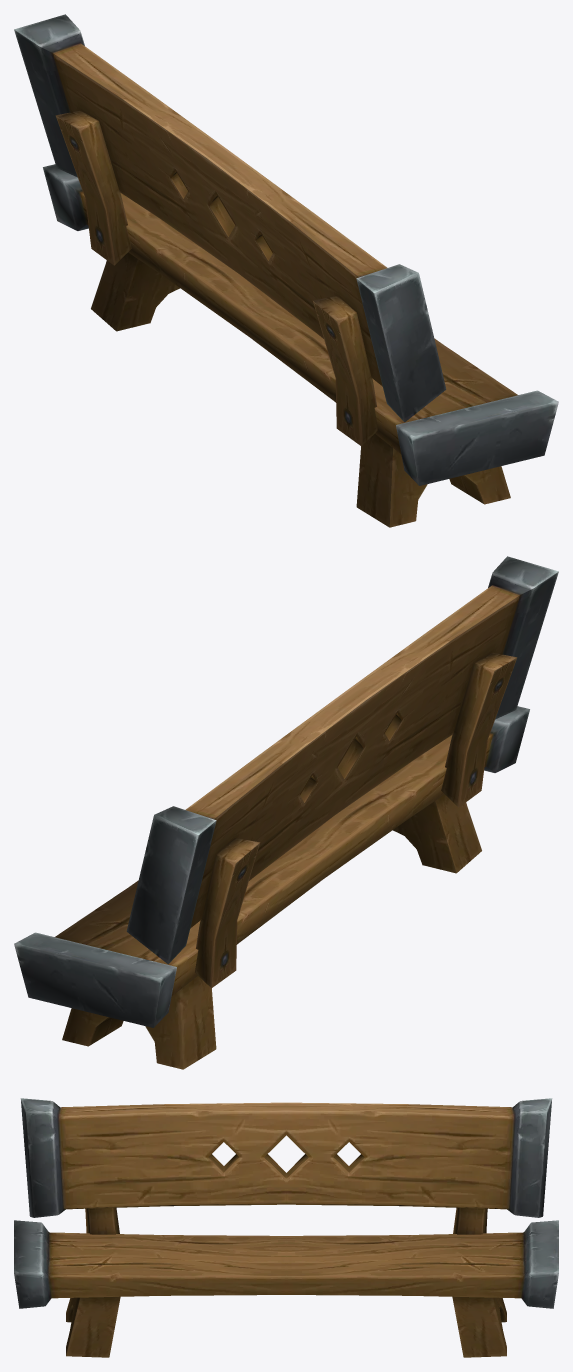
3 views of the same model, one above another, from view 1: azimuth 30°, elevation 25°; view 2: azimuth 150°, elevation 25°; view 3: azimuth 270°, elevation 25° (orthographic). The views are drawn at different scales.
Size of the model in its own units: 0.8777 by 1.28 by 3.12.
1 material, 1 textured.
